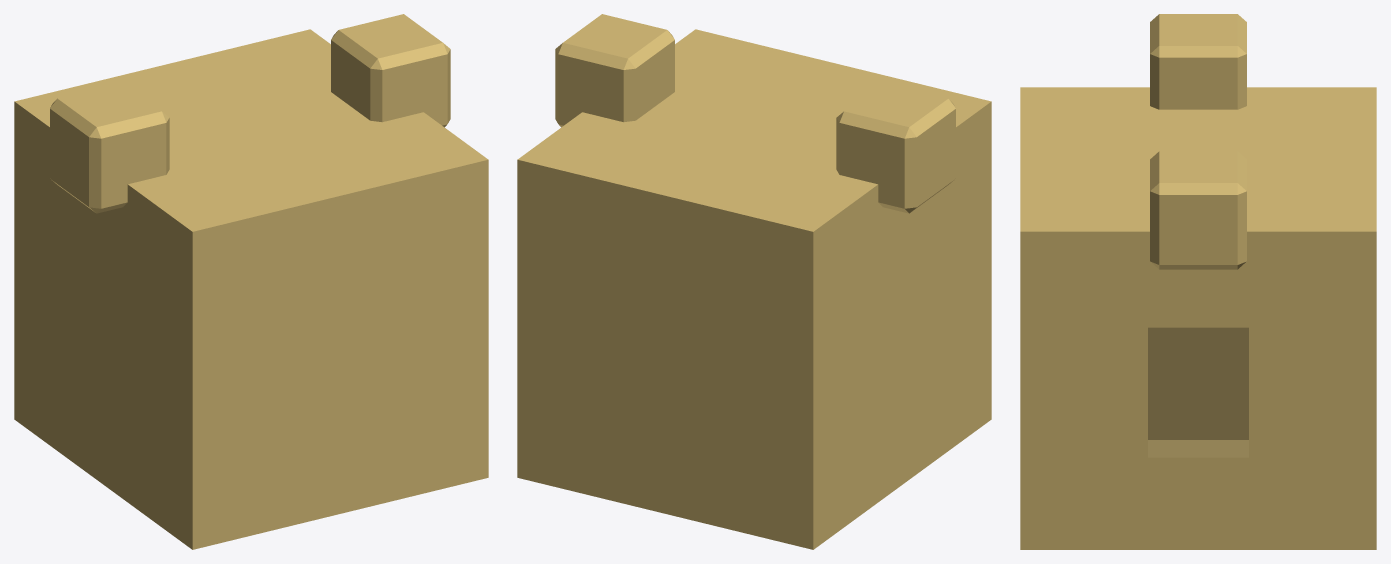
Rendered from SandWall.fbx.
3 views of the same model, side by side, from view 1: azimuth 30°, elevation 25°; view 2: azimuth 150°, elevation 25°; view 3: azimuth 270°, elevation 25° (orthographic).
Parts seen in each view (by area): view 1: Cube.005; view 2: Cube.005; view 3: Cube.005.
Boxes of the visible parts, <box> form: Cube.005: <box>14,14,488,549</box>; Cube.005: <box>517,14,991,549</box>; Cube.005: <box>1020,14,1376,549</box>.
Size of the model in its own units: 100 by 100 by 85.35.
